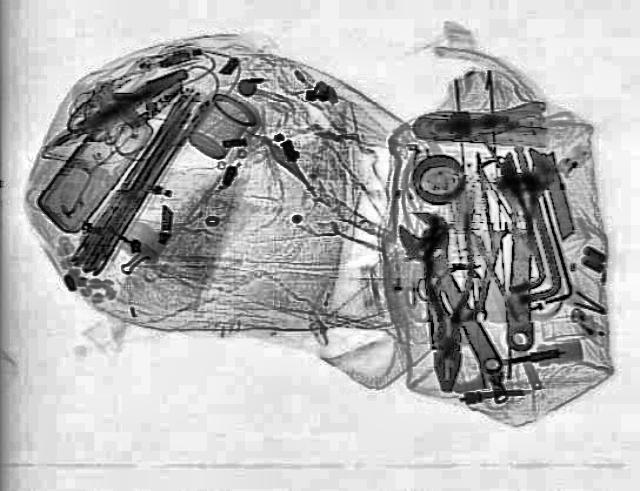Pliers: (421, 212, 474, 392)
Wrench: (386, 206, 524, 380), (489, 145, 557, 352)
